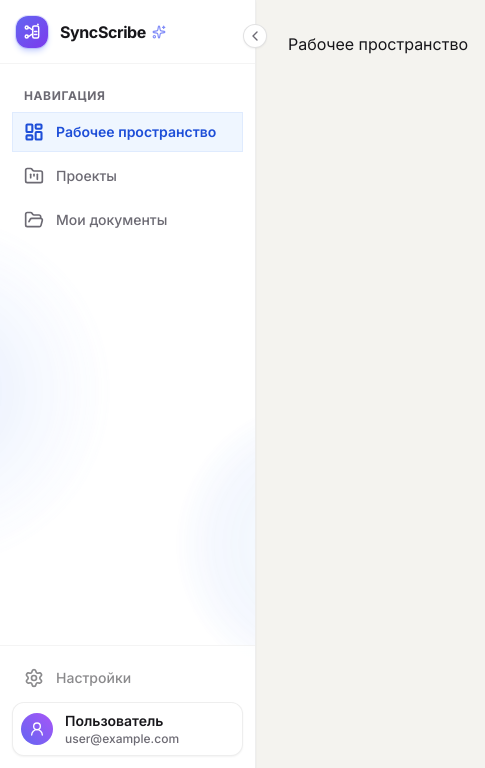
it: AppShell: оформление не меняет поведение навигации и аккаунта › сворачивает и разворачивает меню, сохраняет состояние и доступные имена ссылок
Click the button named "Свернуть меню" at (255, 36), box [243,24,267,48]
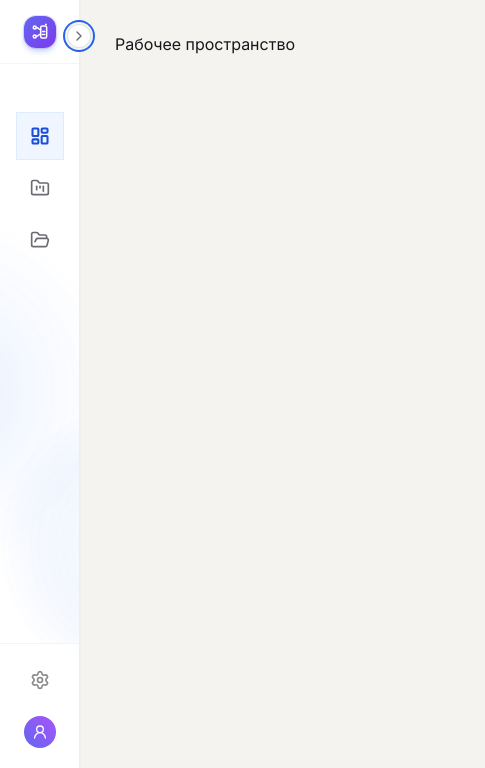
Expected: the link named "Проекты" is shown, [30,178,50,198]
Result: the button named "Развернуть меню" is collapsed
Click the button named "Развернуть меню" at (79, 36), box [67,24,91,48]
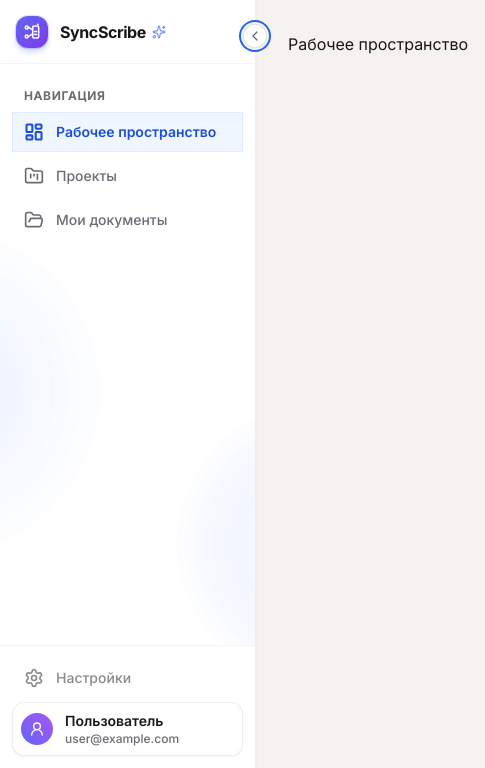
Result: the button named "Свернуть меню" is expanded at [243,24,267,48]
